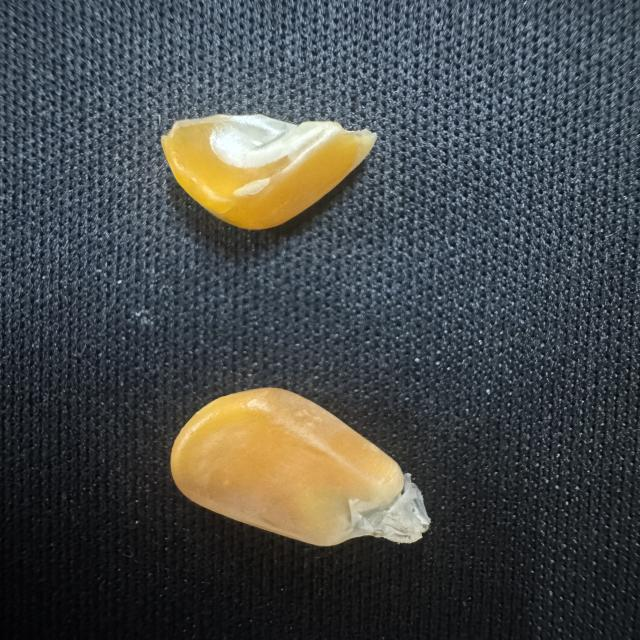Bad-Seed: (153, 110, 382, 245)
Good-Seed: (164, 376, 442, 568)
